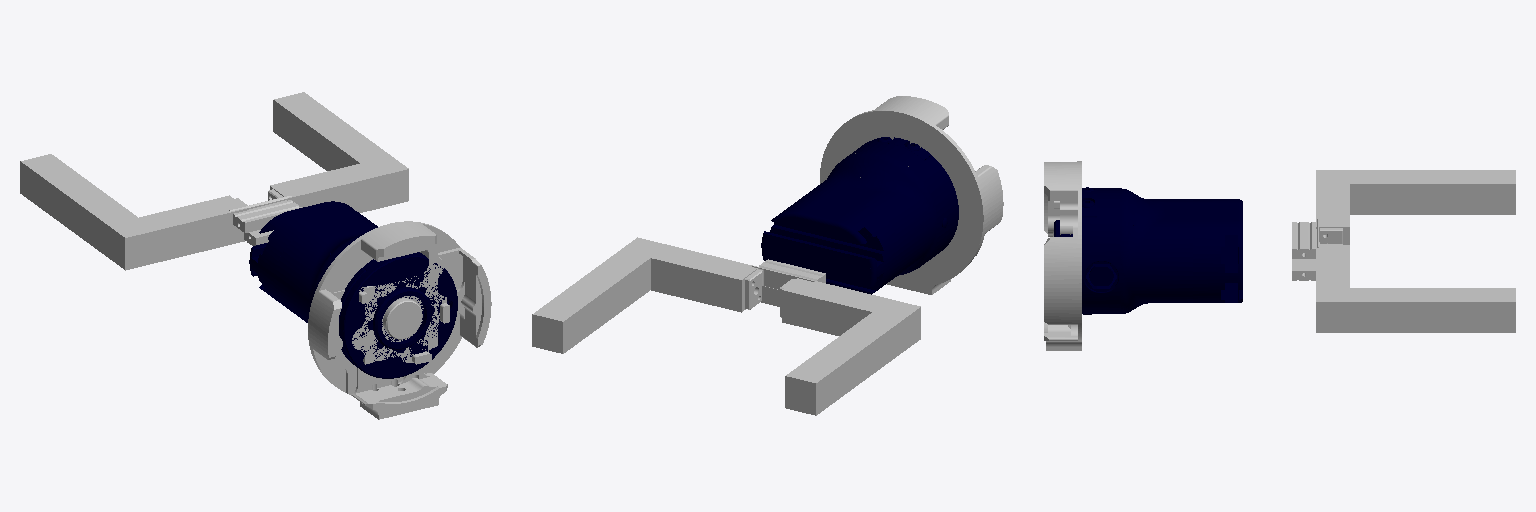
robot.urdf — steripack_robot:
<?xml version="1.0" ?>
<!-- =================================================================================== -->
<!-- |    This document was autogenerated by xacro from [local-path]/mojer/catkin_ws/src/acroba_ros/acroba_resources/urdf/steripack_robot.xacro | -->
<!-- |    EDITING THIS FILE BY HAND IS NOT RECOMMENDED                                 | -->
<!-- =================================================================================== -->
<robot name="steripack_robot">
  <link name="base_link">
    <visual>
      <geometry>
        <mesh filename="package://acroba_resources/meshes/ur10/visual/base.dae"/>
      </geometry>
      <material name="LightGrey">
        <color rgba="0.7 0.7 0.7 1.0"/>
      </material>
    </visual>
    <collision>
      <geometry>
        <mesh filename="package://acroba_resources/meshes/ur10/collision/base.stl"/>
      </geometry>
    </collision>
    <inertial>
      <mass value="4.0"/>
      <origin rpy="0 0 0" xyz="0.0 0.0 0.0"/>
      <inertia ixx="0.0061063308908" ixy="0.0" ixz="0.0" iyy="0.0061063308908" iyz="0.0" izz="0.01125"/>
    </inertial>
  </link>
  <joint name="shoulder_pan_joint" type="revolute">
    <parent link="base_link"/>
    <child link="shoulder_link"/>
    <origin rpy="0.0 0.0 0.0" xyz="0.0 0.0 0.1273"/>
    <axis xyz="0 0 1"/>
    <limit effort="330.0" lower="-6.283185307179586" upper="6.283185307179586" velocity="2.16"/>
    <dynamics damping="0.0" friction="0.0"/>
  </joint>
  <link name="shoulder_link">
    <visual>
      <geometry>
        <mesh filename="package://acroba_resources/meshes/ur10/visual/shoulder.dae"/>
      </geometry>
      <material name="LightGrey">
        <color rgba="0.7 0.7 0.7 1.0"/>
      </material>
    </visual>
    <collision>
      <geometry>
        <mesh filename="package://acroba_resources/meshes/ur10/collision/shoulder.stl"/>
      </geometry>
    </collision>
    <inertial>
      <mass value="7.778"/>
      <origin rpy="0 0 0" xyz="0.0 0.0 0.0"/>
      <inertia ixx="0.03147431257693659" ixy="0.0" ixz="0.0" iyy="0.03147431257693659" iyz="0.0" izz="0.021875624999999996"/>
    </inertial>
  </link>
  <joint name="shoulder_lift_joint" type="revolute">
    <parent link="shoulder_link"/>
    <child link="upper_arm_link"/>
    <origin rpy="0.0 1.5707963267948966 0.0" xyz="0.0 0.220941 0.0"/>
    <axis xyz="0 1 0"/>
    <limit effort="330.0" lower="-6.283185307179586" upper="6.283185307179586" velocity="2.16"/>
    <dynamics damping="0.0" friction="0.0"/>
  </joint>
  <link name="upper_arm_link">
    <visual>
      <geometry>
        <mesh filename="package://acroba_resources/meshes/ur10/visual/upperarm.dae"/>
      </geometry>
      <material name="LightGrey">
        <color rgba="0.7 0.7 0.7 1.0"/>
      </material>
    </visual>
    <collision>
      <geometry>
        <mesh filename="package://acroba_resources/meshes/ur10/collision/upperarm.stl"/>
      </geometry>
    </collision>
    <inertial>
      <mass value="12.93"/>
      <origin rpy="0 0 0" xyz="0.0 -0.045 0.306"/>
      <inertia ixx="0.42175380379841093" ixy="0.0" ixz="0.0" iyy="0.42175380379841093" iyz="0.0" izz="0.03636562499999999"/>
    </inertial>
  </link>
  <joint name="elbow_joint" type="revolute">
    <parent link="upper_arm_link"/>
    <child link="forearm_link"/>
    <origin rpy="0.0 0.0 0.0" xyz="0.0 -0.1719 0.612"/>
    <axis xyz="0 1 0"/>
    <limit effort="150.0" lower="-3.141592653589793" upper="3.141592653589793" velocity="3.15"/>
    <dynamics damping="0.0" friction="0.0"/>
  </joint>
  <link name="forearm_link">
    <visual>
      <geometry>
        <mesh filename="package://acroba_resources/meshes/ur10/visual/forearm.dae"/>
      </geometry>
      <material name="LightGrey">
        <color rgba="0.7 0.7 0.7 1.0"/>
      </material>
    </visual>
    <collision>
      <geometry>
        <mesh filename="package://acroba_resources/meshes/ur10/collision/forearm.stl"/>
      </geometry>
    </collision>
    <inertial>
      <mass value="3.87"/>
      <origin rpy="0 0 0" xyz="0.0 0.0 0.28615"/>
      <inertia ixx="0.11106969409710458" ixy="0.0" ixz="0.0" iyy="0.11106969409710458" iyz="0.0" izz="0.010884375"/>
    </inertial>
  </link>
  <joint name="wrist_1_joint" type="revolute">
    <parent link="forearm_link"/>
    <child link="wrist_1_link"/>
    <origin rpy="0.0 1.5707963267948966 0.0" xyz="0.0 0.0 0.5723"/>
    <axis xyz="0 1 0"/>
    <limit effort="54.0" lower="-6.283185307179586" upper="6.283185307179586" velocity="3.2"/>
    <dynamics damping="0.0" friction="0.0"/>
  </joint>
  <link name="wrist_1_link">
    <visual>
      <geometry>
        <mesh filename="package://acroba_resources/meshes/ur10/visual/wrist1.dae"/>
      </geometry>
      <material name="LightGrey">
        <color rgba="0.7 0.7 0.7 1.0"/>
      </material>
    </visual>
    <collision>
      <geometry>
        <mesh filename="package://acroba_resources/meshes/ur10/collision/wrist1.stl"/>
      </geometry>
    </collision>
    <inertial>
      <mass value="1.96"/>
      <origin rpy="0 0 0" xyz="0.0 0.1149 0.0"/>
      <inertia ixx="0.005108247956699999" ixy="0.0" ixz="0.0" iyy="0.005108247956699999" iyz="0.0" izz="0.005512499999999999"/>
    </inertial>
  </link>
  <joint name="wrist_2_joint" type="revolute">
    <parent link="wrist_1_link"/>
    <child link="wrist_2_link"/>
    <origin rpy="0.0 0.0 0.0" xyz="0.0 0.1149 0.0"/>
    <axis xyz="0 0 1"/>
    <limit effort="54.0" lower="-6.283185307179586" upper="6.283185307179586" velocity="3.2"/>
    <dynamics damping="0.0" friction="0.0"/>
  </joint>
  <link name="wrist_2_link">
    <visual>
      <geometry>
        <mesh filename="package://acroba_resources/meshes/ur10/visual/wrist2.dae"/>
      </geometry>
      <material name="LightGrey">
        <color rgba="0.7 0.7 0.7 1.0"/>
      </material>
    </visual>
    <collision>
      <geometry>
        <mesh filename="package://acroba_resources/meshes/ur10/collision/wrist2.stl"/>
      </geometry>
    </collision>
    <inertial>
      <mass value="1.96"/>
      <origin rpy="0 0 0" xyz="0.0 0.0 0.1157"/>
      <inertia ixx="0.005108247956699999" ixy="0.0" ixz="0.0" iyy="0.005108247956699999" iyz="0.0" izz="0.005512499999999999"/>
    </inertial>
  </link>
  <joint name="wrist_3_joint" type="revolute">
    <parent link="wrist_2_link"/>
    <child link="wrist_3_link"/>
    <origin rpy="0.0 0.0 0.0" xyz="0.0 0.0 0.1157"/>
    <axis xyz="0 1 0"/>
    <limit effort="54.0" lower="-6.283185307179586" upper="6.283185307179586" velocity="3.2"/>
    <dynamics damping="0.0" friction="0.0"/>
  </joint>
  <link name="wrist_3_link">
    <visual>
      <geometry>
        <mesh filename="package://acroba_resources/meshes/ur10/visual/wrist3.dae"/>
      </geometry>
      <material name="LightGrey">
        <color rgba="0.7 0.7 0.7 1.0"/>
      </material>
    </visual>
    <collision>
      <geometry>
        <mesh filename="package://acroba_resources/meshes/ur10/collision/wrist3.stl"/>
      </geometry>
    </collision>
    <inertial>
      <mass value="0.202"/>
      <origin rpy="1.5707963267948966 0 0" xyz="0.0 0.07695 0.0"/>
      <inertia ixx="0.00011792166116465" ixy="0.0" ixz="0.0" iyy="0.00011792166116465" iyz="0.0" izz="0.00020452500000000002"/>
    </inertial>
  </link>
  <joint name="ee_fixed_joint" type="fixed">
    <parent link="wrist_3_link"/>
    <child link="ee_link"/>
    <origin rpy="0.0 0.0 1.5707963267948966" xyz="0.0 0.0922 0.0"/>
  </joint>
  <link name="ee_link">
    <collision>
      <geometry>
        <box size="0.01 0.01 0.01"/>
      </geometry>
      <origin rpy="0 0 0" xyz="-0.01 0 0"/>
    </collision>
  </link>
  <transmission name="shoulder_pan_trans">
    <type>transmission_interface/SimpleTransmission</type>
    <joint name="shoulder_pan_joint">
      <hardwareInterface>hardware_interface/PositionJointInterface</hardwareInterface>
    </joint>
    <actuator name="shoulder_pan_motor">
      <mechanicalReduction>1</mechanicalReduction>
    </actuator>
  </transmission>
  <transmission name="shoulder_lift_trans">
    <type>transmission_interface/SimpleTransmission</type>
    <joint name="shoulder_lift_joint">
      <hardwareInterface>hardware_interface/PositionJointInterface</hardwareInterface>
    </joint>
    <actuator name="shoulder_lift_motor">
      <mechanicalReduction>1</mechanicalReduction>
    </actuator>
  </transmission>
  <transmission name="elbow_trans">
    <type>transmission_interface/SimpleTransmission</type>
    <joint name="elbow_joint">
      <hardwareInterface>hardware_interface/PositionJointInterface</hardwareInterface>
    </joint>
    <actuator name="elbow_motor">
      <mechanicalReduction>1</mechanicalReduction>
    </actuator>
  </transmission>
  <transmission name="wrist_1_trans">
    <type>transmission_interface/SimpleTransmission</type>
    <joint name="wrist_1_joint">
      <hardwareInterface>hardware_interface/PositionJointInterface</hardwareInterface>
    </joint>
    <actuator name="wrist_1_motor">
      <mechanicalReduction>1</mechanicalReduction>
    </actuator>
  </transmission>
  <transmission name="wrist_2_trans">
    <type>transmission_interface/SimpleTransmission</type>
    <joint name="wrist_2_joint">
      <hardwareInterface>hardware_interface/PositionJointInterface</hardwareInterface>
    </joint>
    <actuator name="wrist_2_motor">
      <mechanicalReduction>1</mechanicalReduction>
    </actuator>
  </transmission>
  <transmission name="wrist_3_trans">
    <type>transmission_interface/SimpleTransmission</type>
    <joint name="wrist_3_joint">
      <hardwareInterface>hardware_interface/PositionJointInterface</hardwareInterface>
    </joint>
    <actuator name="wrist_3_motor">
      <mechanicalReduction>1</mechanicalReduction>
    </actuator>
  </transmission>
  <gazebo reference="shoulder_link">
    <selfCollide>true</selfCollide>
  </gazebo>
  <gazebo reference="upper_arm_link">
    <selfCollide>true</selfCollide>
  </gazebo>
  <gazebo reference="forearm_link">
    <selfCollide>true</selfCollide>
  </gazebo>
  <gazebo reference="wrist_1_link">
    <selfCollide>true</selfCollide>
  </gazebo>
  <gazebo reference="wrist_3_link">
    <selfCollide>true</selfCollide>
  </gazebo>
  <gazebo reference="wrist_2_link">
    <selfCollide>true</selfCollide>
  </gazebo>
  <gazebo reference="ee_link">
    <selfCollide>true</selfCollide>
  </gazebo>
  <!-- ROS base_link to UR 'Base' Coordinates transform -->
  <link name="base"/>
  <joint name="base_link-base_fixed_joint" type="fixed">
    <!-- NOTE: this rotation is only needed as long as base_link itself is
                 not corrected wrt the real robot (ie: rotated over 180
                 degrees)
      -->
    <origin rpy="0 0 -3.141592653589793" xyz="0 0 0"/>
    <parent link="base_link"/>
    <child link="base"/>
  </joint>
  <!-- Frame coincident with all-zeros TCP on UR controller -->
  <link name="tool0"/>
  <joint name="wrist_3_link-tool0_fixed_joint" type="fixed">
    <origin rpy="-1.5707963267948966 0 0" xyz="0 0.0922 0"/>
    <parent link="wrist_3_link"/>
    <child link="tool0"/>
  </joint>
  <material name="schunk_dark_grey">
    <color rgba="0.3 0.3 0.3 1.0"/>
  </material>
  <material name="schunk_grey">
    <color rgba="0.8 0.8 0.8 1.0"/>
  </material>
  <material name="schunk_blue">
    <color rgba="0. 0. 0.2 1.0"/>
  </material>
  <link name="base_tool"/>
  <link name="tool_adaptor">
    <visual>
      <origin rpy="0 0 0" xyz="0 0 0.0"/>
      <geometry>
        <mesh filename="package://acroba_resources/meshes/schunk_EGP40/base.stl" scale="0.001 0.001 0.001"/>
      </geometry>
      <material name="schunk_grey"/>
    </visual>
    <collision>
      <origin rpy="0 0 0" xyz="0 0 -0.0015"/>
      <geometry>
        <cylinder length="0.019" radius="0.045"/>
      </geometry>
    </collision>
  </link>
  <link name="tool_body">
    <visual>
      <origin rpy="0 0 0" xyz="0 0 0.0"/>
      <geometry>
        <mesh filename="package://acroba_resources/meshes/schunk_EGP40/body.stl" scale="0.001 0.001 0.001"/>
      </geometry>
      <material name="schunk_blue"/>
    </visual>
    <collision>
      <origin rpy="0 0 0" xyz="0 0 0.0"/>
      <geometry>
        <mesh filename="package://acroba_resources/meshes/schunk_EGP40/body_convex.stl" scale="0.001 0.001 0.001"/>
      </geometry>
    </collision>
  </link>
  <link name="left_finger">
    <visual>
      <origin rpy="0 0 0" xyz="0 0 0.0"/>
      <geometry>
        <mesh filename="package://acroba_resources/meshes/schunk_EGP40/finger_1.stl" scale="0.001 0.001 0.001"/>
      </geometry>
      <material name="schunk_grey"/>
    </visual>
    <collision>
      <origin rpy="0 0 0" xyz="-0.011 0 0.1325"/>
      <geometry>
        <box size="0.006 0.017 0.017"/>
      </geometry>
    </collision>
  </link>
  <link name="right_finger">
    <visual>
      <origin rpy="0 0 0" xyz="0 0 0.0"/>
      <geometry>
        <mesh filename="package://acroba_resources/meshes/schunk_EGP40/finger_2.stl" scale="0.001 0.001 0.001"/>
      </geometry>
      <material name="schunk_grey"/>
    </visual>
    <collision>
      <origin rpy="0 0 0" xyz="0.011 0 0.1325"/>
      <geometry>
        <box size="0.006 0.017 0.017"/>
      </geometry>
    </collision>
  </link>
  <joint name="_tool_base_adaptor" type="fixed">
    <origin rpy="0 0 0" xyz="0 0 0.0"/>
    <parent link="base_tool"/>
    <child link="tool_adaptor"/>
  </joint>
  <joint name="_tool_adaptor_body" type="fixed">
    <origin rpy="0 0 0" xyz="0 0 0.0"/>
    <parent link="tool_adaptor"/>
    <child link="tool_body"/>
  </joint>
  <joint name="_left_joint" type="prismatic">
    <origin rpy="0 0 0" xyz="0 0 0.0"/>
    <parent link="tool_body"/>
    <child link="left_finger"/>
    <axis xyz="1 0 0"/>
    <limit effort="215" lower="0" upper="0.006" velocity="10"/>
  </joint>
  <joint name="_right_joint" type="prismatic">
    <origin rpy="0 0 0" xyz="0 0 0.0"/>
    <parent link="tool_body"/>
    <child link="right_finger"/>
    <axis xyz="-1 0 0"/>
    <limit effort="215" lower="0" upper="0.006" velocity="10"/>
  </joint>
  <link name="tool_tip"/>
  <joint name="_end_tool" type="fixed">
    <origin rpy="0 0 0" xyz="0 0 0.136"/>
    <parent link="tool_body"/>
    <child link="tool_tip"/>
  </joint>
  <link name="right_extension">
    <visual>
      <origin rpy="0 0 0" xyz="0.036000000000000004 0 0.136"/>
      <geometry>
        <box size="0.05 0.017 0.017"/>
      </geometry>
      <material name="schunk_grey"/>
    </visual>
    <visual>
      <origin rpy="0 0 0" xyz="0.0695 0 0.1775"/>
      <geometry>
        <box size="0.017 0.017 0.1"/>
      </geometry>
      <material name="schunk_grey"/>
    </visual>
    <collision>
      <origin rpy="0 0 0" xyz="0.036000000000000004 0 0.136"/>
      <geometry>
        <box size="0.05 0.017 0.017"/>
      </geometry>
    </collision>
    <collision>
      <origin rpy="0 0 0" xyz="0.0695 0 0.1775"/>
      <geometry>
        <box size="0.017 0.017 0.1"/>
      </geometry>
    </collision>
  </link>
  <link name="left_extension">
    <visual>
      <origin rpy="0 0 0" xyz="-0.036000000000000004 0 0.136"/>
      <geometry>
        <box size="0.05 0.017 0.017"/>
      </geometry>
      <material name="schunk_grey"/>
    </visual>
    <visual>
      <origin rpy="0 0 0" xyz="-0.0695 0 0.1775"/>
      <geometry>
        <box size="0.017 0.017 0.1"/>
      </geometry>
      <material name="schunk_grey"/>
    </visual>
    <collision>
      <origin rpy="0 0 0" xyz="-0.036000000000000004 0 0.136"/>
      <geometry>
        <box size="0.05 0.017 0.017"/>
      </geometry>
    </collision>
    <collision>
      <origin rpy="0 0 0" xyz="-0.0695 0 0.1775"/>
      <geometry>
        <box size="0.017 0.017 0.1"/>
      </geometry>
    </collision>
  </link>
  <joint name="extension_joint_right" type="fixed">
    <origin rpy="0.0 0.0 0.0" xyz="0.0 0.0 0.0"/>
    <parent link="right_finger"/>
    <child link="right_extension"/>
  </joint>
  <joint name="extension_joint_left" type="fixed">
    <origin rpy="0.0 0.0 0.0" xyz="0.0 0.0 0.0"/>
    <parent link="left_finger"/>
    <child link="left_extension"/>
  </joint>
  <link name="end_tool"/>
  <joint name="joint_tip_end" type="fixed">
    <origin rpy="0.0 0.0 0.0" xyz="0.0 0.0 0.0915"/>
    <parent link="tool_tip"/>
    <child link="end_tool"/>
  </joint>
  <link name="world"/>
  <joint name="world_joint" type="fixed">
    <parent link="world"/>
    <child link="base_link"/>
    <origin xyz= "-1.00100004673004 -0.31700000166893 0.843999981880188" rpy= "0 0 0"/>
  </joint>
  <joint name="tool_joint" type="fixed">
    <parent link="tool0"/>
    <child link="base_tool"/>
    <origin rpy="0.0 0.0 0.0" xyz="0.0 0.0 0.0"/>
  </joint>
</robot>

--- Render facts (derived) ---
3 views of the same robot in one strip: view 1: azimuth 30°, elevation 25°; view 2: azimuth 150°, elevation 25°; view 3: azimuth 270°, elevation 25° (orthographic).
Robot: steripack_robot — 20 links, 19 joints (6 revolute, 2 prismatic, 11 fixed); root link world; default pose: all joints at 0.
Links seen in each view (by area): view 1: tool_adaptor, tool_body, right_extension, left_extension, left_finger; view 2: tool_body, left_extension, right_extension, tool_adaptor, left_finger; view 3: tool_body, left_extension, right_extension, tool_adaptor, left_finger, right_finger.
Link boxes in pixels (x1,y1,x2,y2): tool_adaptor: (308, 221, 491, 419); tool_body: (249, 201, 457, 378); right_extension: (20, 154, 246, 270); left_extension: (270, 92, 408, 212); left_finger: (229, 189, 301, 232); tool_body: (761, 137, 958, 294); left_extension: (532, 237, 757, 353); right_extension: (782, 277, 920, 415); tool_adaptor: (820, 96, 1003, 294); left_finger: (745, 259, 825, 309); tool_body: (1054, 187, 1242, 314); left_extension: (1316, 245, 1515, 332); right_extension: (1316, 170, 1515, 244); tool_adaptor: (1044, 161, 1081, 350); left_finger: (1292, 218, 1342, 258); right_finger: (1292, 228, 1342, 280).
Bounding box of the posed robot: 0.156 × 0.2355 × 0.092 m (x, y, z).
4 mesh visuals loaded from 11 distinct referenced files (4 binary STL); not drawn: 7 (reference not matched to a file when rendering).
